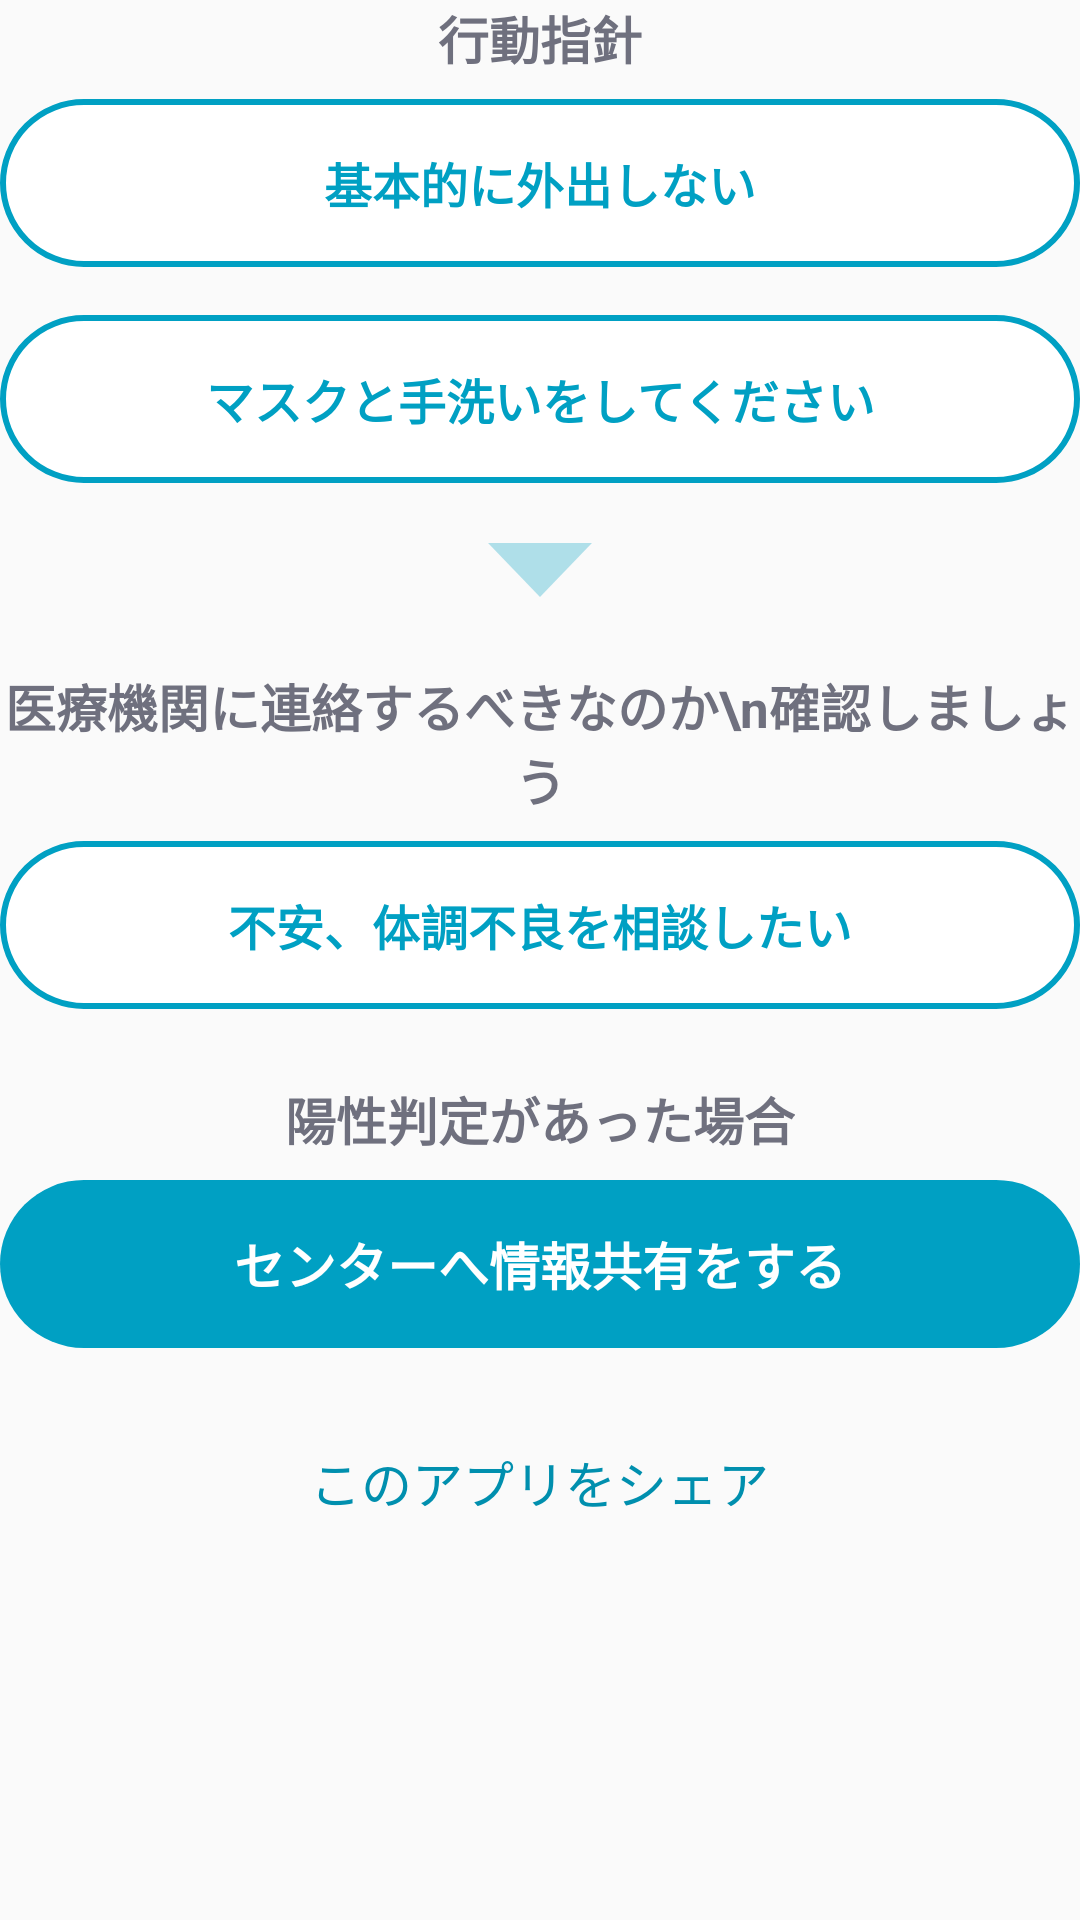

Point at icon controls on the screen. Image size 1080×1920, points as [x,y].
polygon: [540,570]
